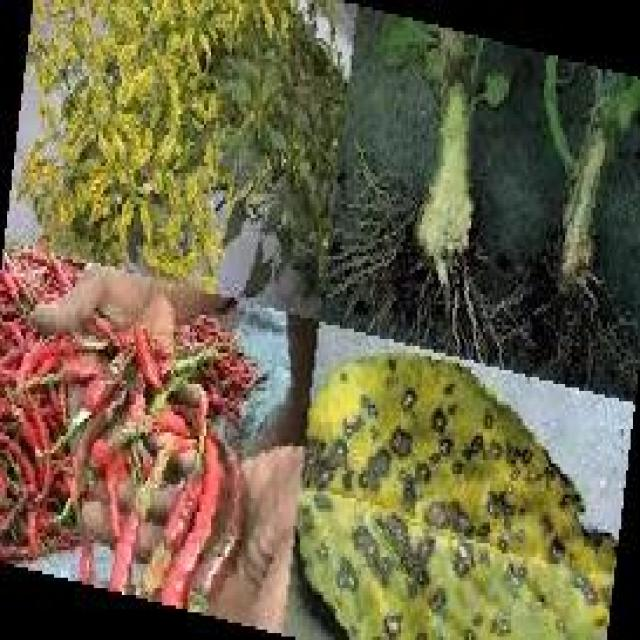Panama: (317, 353, 594, 636)
